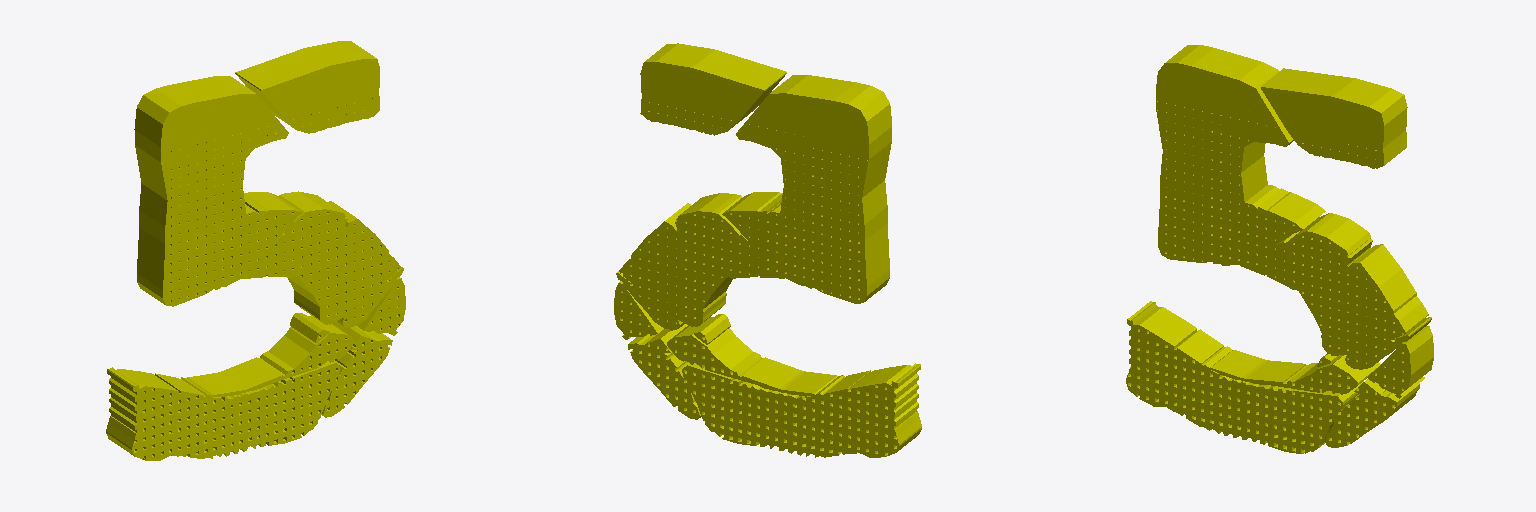
The model's file is 5_naranja.obj.
The picture shows the model from 3 angles: view 1: azimuth 30°, elevation 25°; view 2: azimuth 150°, elevation 25°; view 3: azimuth 330°, elevation 25°; orthographic projection.
Visible parts, largest first — view 1: Mesh2 G_5_1 Model, Mesh4 G_5_1 Model, Mesh1 G_5_1 Model, Mesh3 G_5_1 Model; view 2: Mesh2 G_5_1 Model, Mesh4 G_5_1 Model, Mesh1 G_5_1 Model, Mesh3 G_5_1 Model; view 3: Mesh2 G_5_1 Model, Mesh4 G_5_1 Model, Mesh1 G_5_1 Model.
Part boxes in pixels (left/top/right/bottom): Mesh2 G_5_1 Model: left=134, top=76, right=405, bottom=335; Mesh4 G_5_1 Model: left=106, top=315, right=392, bottom=460; Mesh1 G_5_1 Model: left=235, top=41, right=379, bottom=133; Mesh3 G_5_1 Model: left=290, top=313, right=328, bottom=342; Mesh2 G_5_1 Model: left=614, top=75, right=891, bottom=339; Mesh4 G_5_1 Model: left=628, top=317, right=921, bottom=457; Mesh1 G_5_1 Model: left=640, top=43, right=786, bottom=135; Mesh3 G_5_1 Model: left=694, top=314, right=730, bottom=344; Mesh2 G_5_1 Model: left=1156, top=45, right=1433, bottom=398; Mesh4 G_5_1 Model: left=1126, top=301, right=1419, bottom=453; Mesh1 G_5_1 Model: left=1261, top=68, right=1407, bottom=168.
Size of the model in its own units: 65.86 by 81.87 by 12.29.